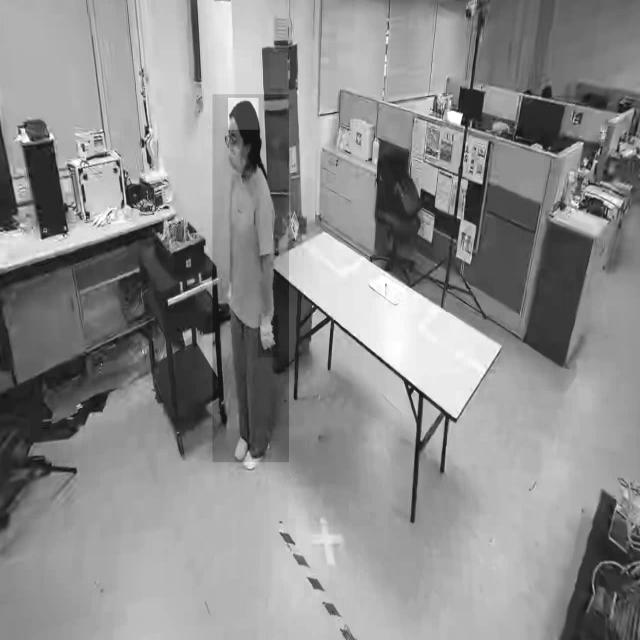face_mask: (223, 127, 250, 177)
glasses: (221, 131, 240, 155)
hand_glove: (258, 315, 278, 358)
head_nohelmet: (228, 98, 259, 130)
person: (212, 94, 290, 463)
shoes: (233, 436, 262, 473)
